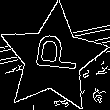P_W: (26, 38, 80, 80)
